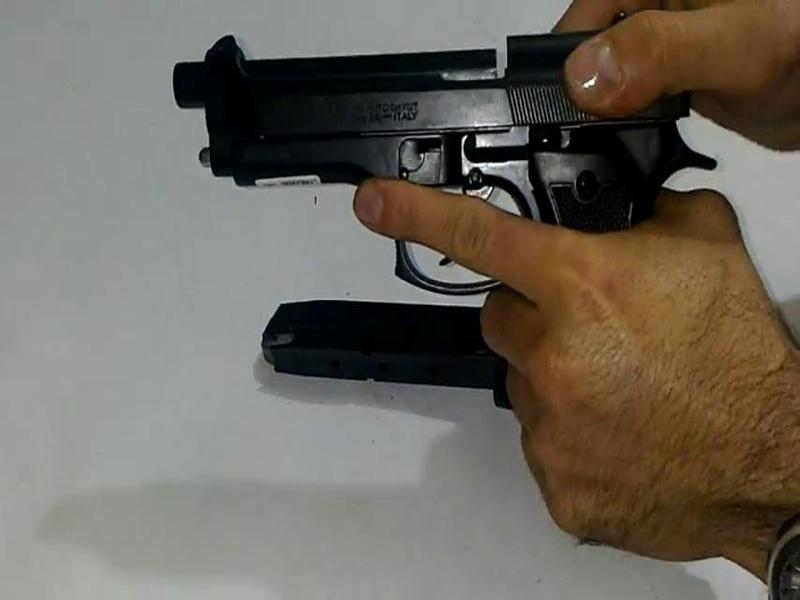Pistola: (157, 13, 742, 412)
